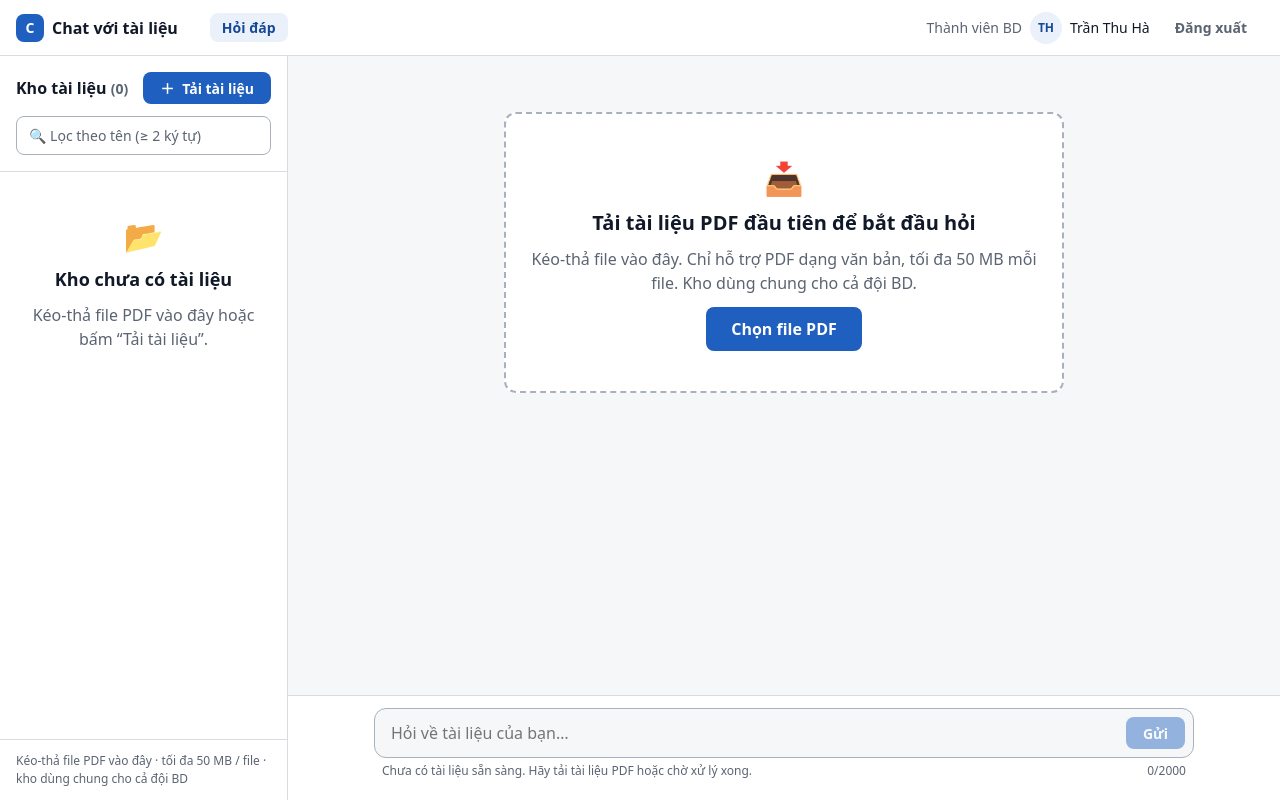
Scenario: US-202 library list › filter sends q only from 2 characters
Expected: the heading "Kho chưa có tài liệu" is shown, [55,267,232,291]
Type "h" into the search field labelled "Lọc theo tên" at (144, 136), box [16,116,271,155]
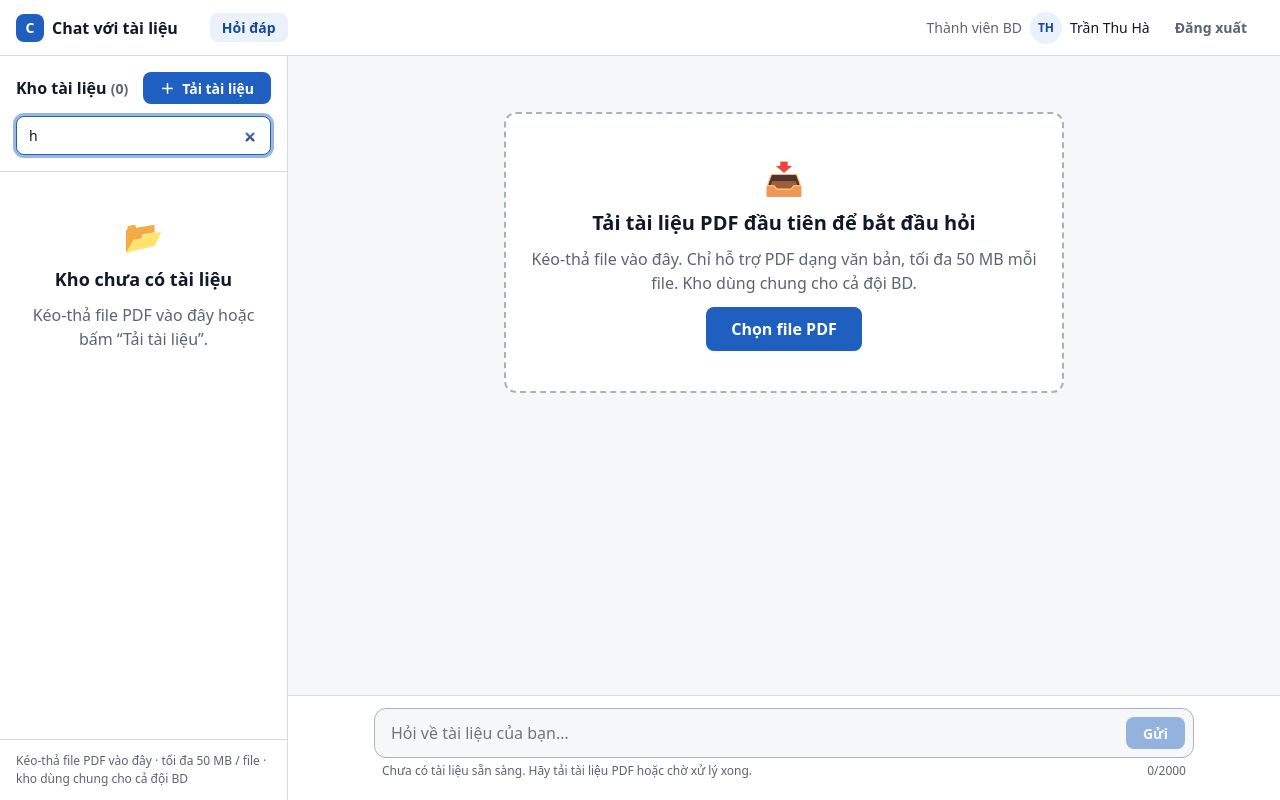
Type "d" into the search field named "Lọc theo tên" at (144, 136), box [16,116,271,155]
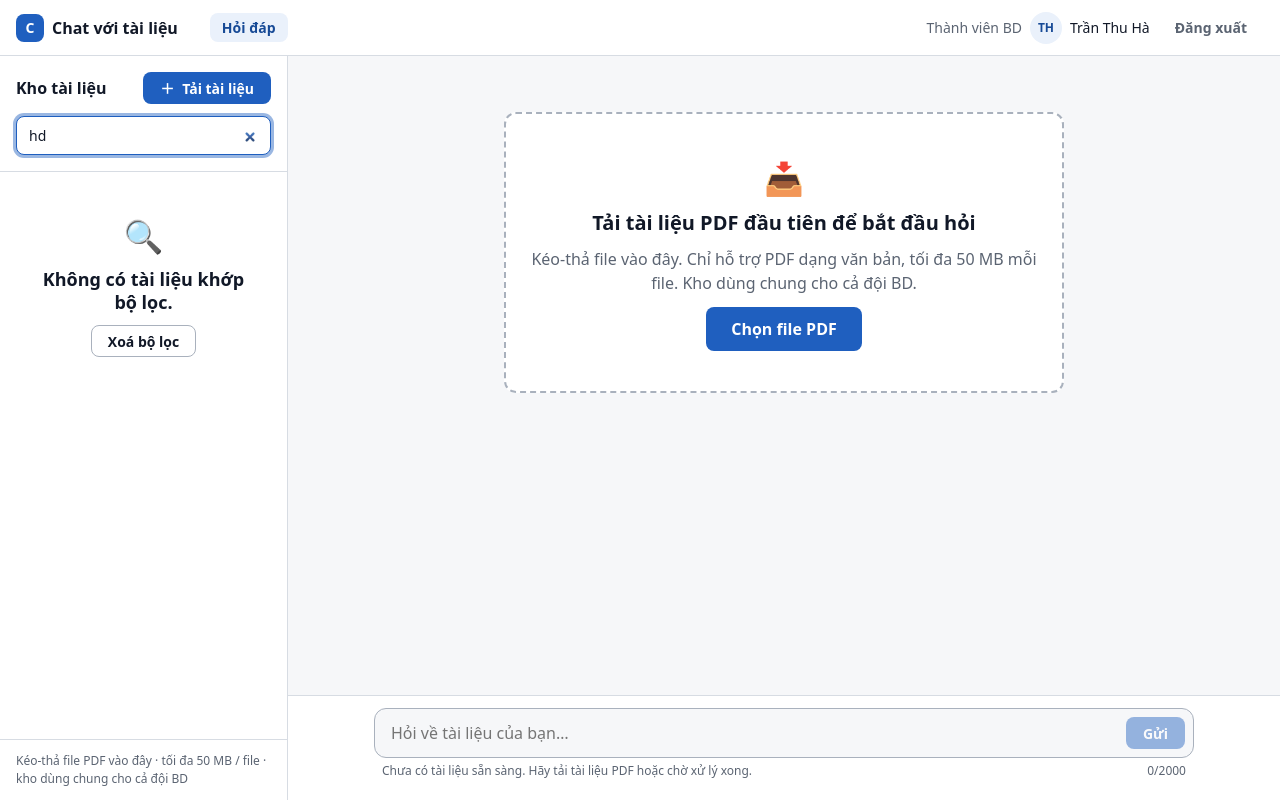
Result: the heading "Không có tài liệu khớp bộ lọc." is shown at [32,268,255,313]
